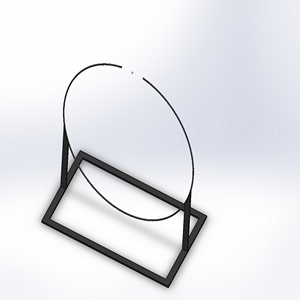circle: (40, 61, 209, 286)
